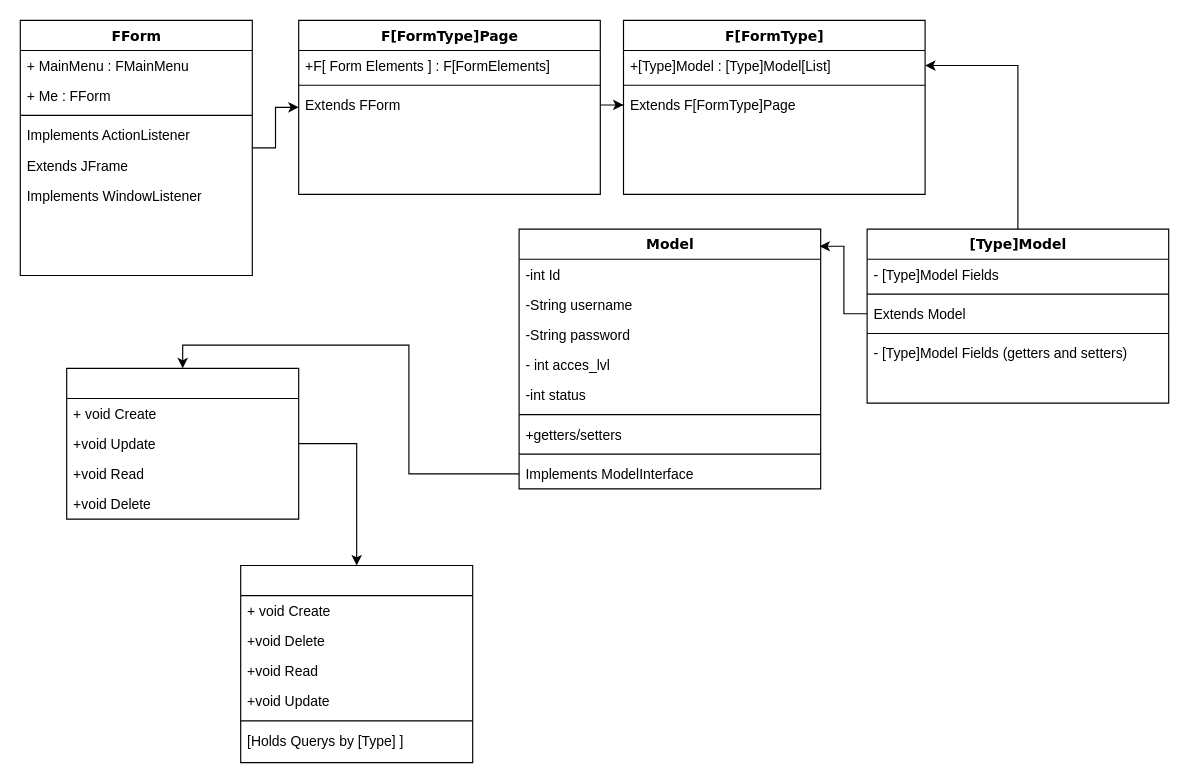
This 1189x783 diagram has some shape labels left out. Here are the shapes that lost their labels. From the top down, the box of each, then its label:
(66, 367, 299, 519): ModelInterface
(240, 564, 473, 763): DB[Type]
